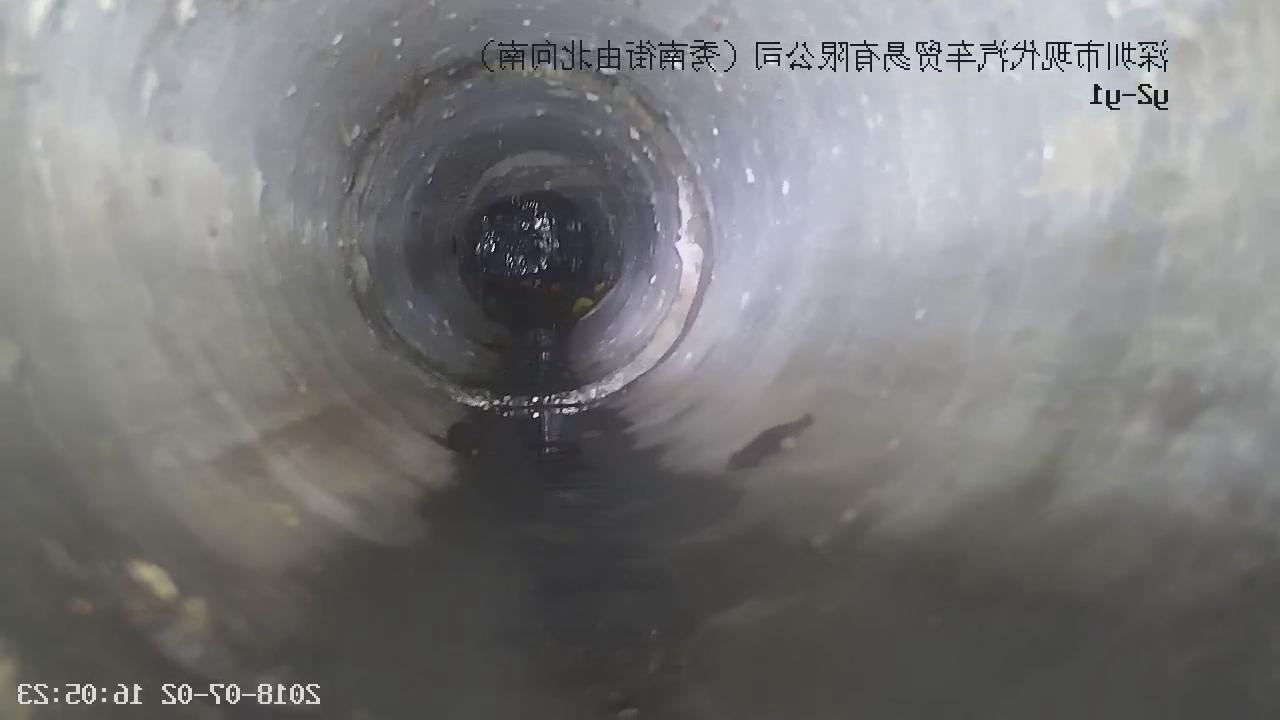CKTJ: (339, 51, 721, 414)
